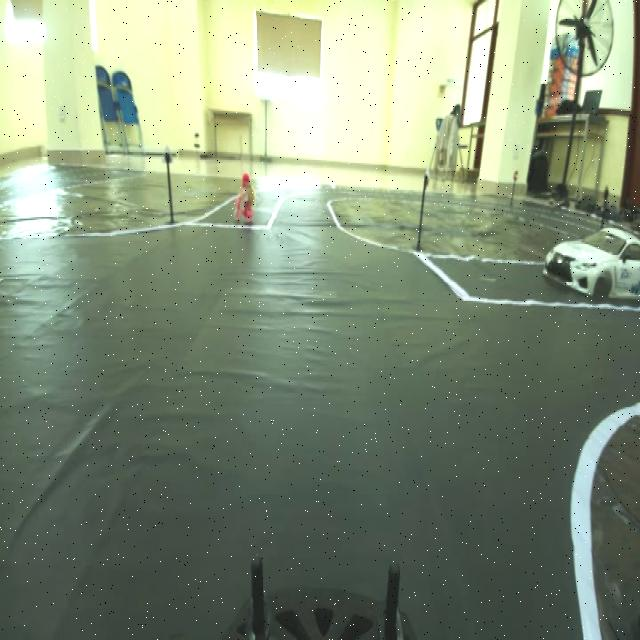car: (544, 215, 640, 317)
